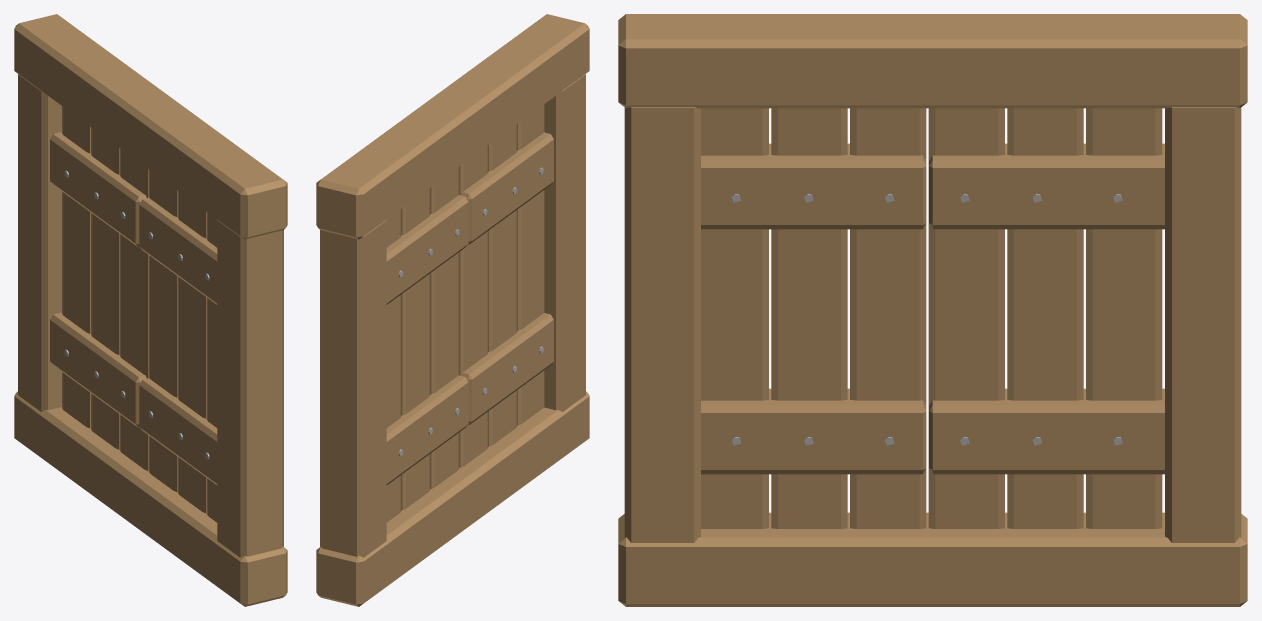
Rendered from WoodenWall_2.fbx.
3 views of the same model, side by side, from view 1: azimuth 30°, elevation 25°; view 2: azimuth 150°, elevation 25°; view 3: azimuth 270°, elevation 25° (orthographic). The views are drawn at different scales.
Parts seen in each view (by area): view 1: WallWoodV.148; view 2: WallWoodV.148; view 3: WallWoodV.148.
Part boxes in pixels (x1,y1,x2,y2): WallWoodV.148: [14, 14, 287, 606]; WallWoodV.148: [316, 14, 589, 606]; WallWoodV.148: [618, 14, 1247, 606].
Bounding box in the file's own units: 0.2753 × 2.32 × 2.33.
